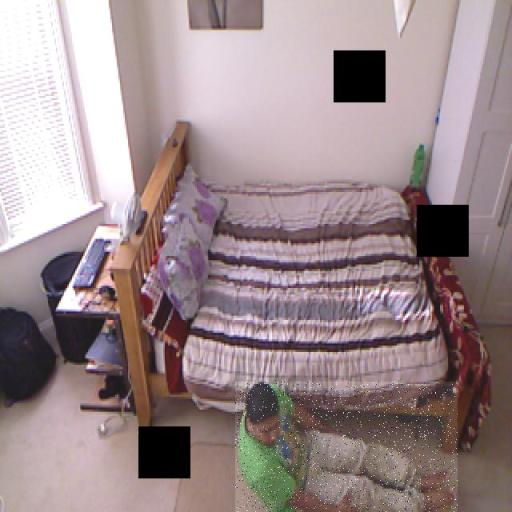Fall: (235, 381, 457, 512)
